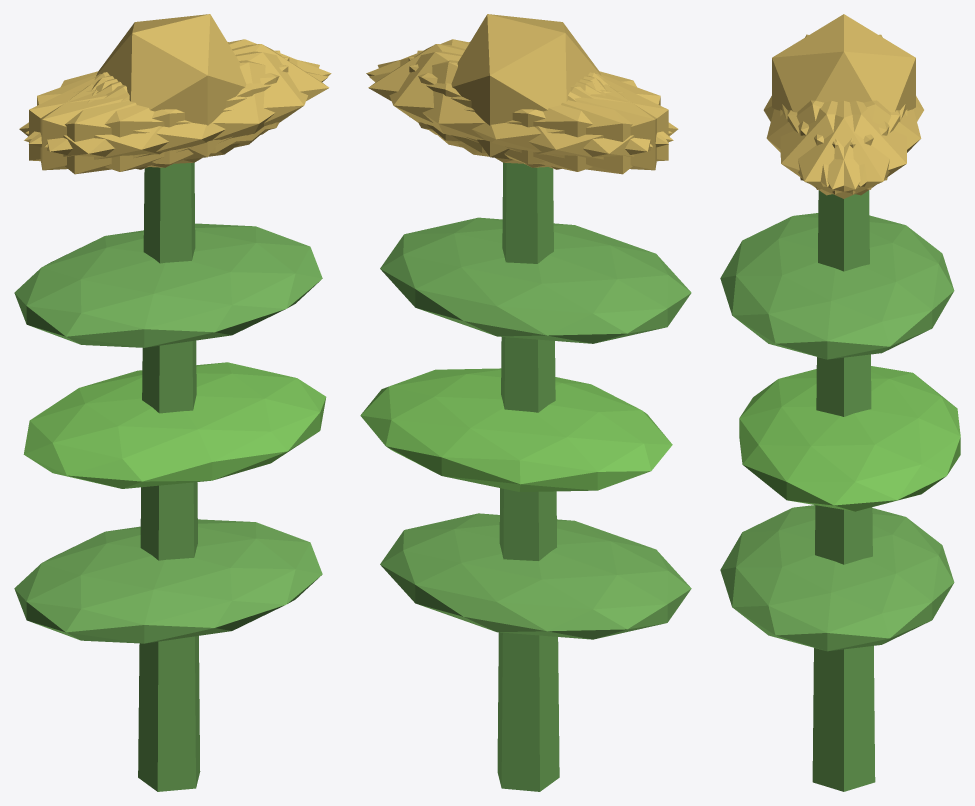
The model's file is achyranthes-japonica.glb.
3 views of the same model, side by side, from view 1: azimuth 30°, elevation 25°; view 2: azimuth 150°, elevation 25°; view 3: azimuth 270°, elevation 25° (orthographic).
Parts seen in each view (by area): view 1: leaf2, leaf0, leaf1, stem, center, petal1, petal6, petal2, petal5, petal7, petal0, petal4 (+2 smaller); view 2: leaf2, leaf1, leaf0, stem, center, petal8, petal3, petal7, petal4, petal2, petal0, petal5 (+2 smaller); view 3: leaf2, leaf1, leaf0, stem, center, petal0, petal5, petal4, petal1, petal8.
Part boxes in pixels (box(x1,y1,x2,y2)): leaf2: box(14, 223, 322, 347); leaf0: box(14, 519, 322, 643); leaf1: box(23, 362, 326, 488); stem: box(138, 162, 200, 791); center: box(96, 14, 246, 159); petal1: box(24, 60, 328, 171); petal6: box(19, 74, 239, 174); petal2: box(40, 50, 280, 170); petal5: box(45, 51, 319, 164); petal7: box(29, 57, 289, 167); petal0: box(95, 44, 329, 153); petal4: box(25, 39, 331, 144); leaf2: box(380, 217, 691, 343); leaf1: box(360, 368, 672, 491); leaf0: box(380, 513, 691, 639); stem: box(497, 162, 559, 791); center: box(451, 14, 601, 159); petal8: box(369, 60, 673, 171); petal3: box(458, 74, 678, 174); petal7: box(417, 50, 656, 170); petal4: box(377, 51, 652, 164); petal2: box(408, 57, 668, 167); petal0: box(368, 44, 601, 153); petal5: box(366, 39, 671, 144); leaf2: box(720, 213, 954, 359); leaf1: box(739, 366, 960, 511); leaf0: box(720, 505, 954, 651); stem: box(812, 190, 875, 791); center: box(772, 14, 915, 112); petal0: box(782, 101, 905, 198); petal5: box(780, 100, 900, 195); petal4: box(787, 100, 907, 195); petal1: box(766, 100, 889, 186); petal8: box(798, 100, 921, 186).
Size of the model in its own units: 0.1452 by 0.3498 by 0.1023.
